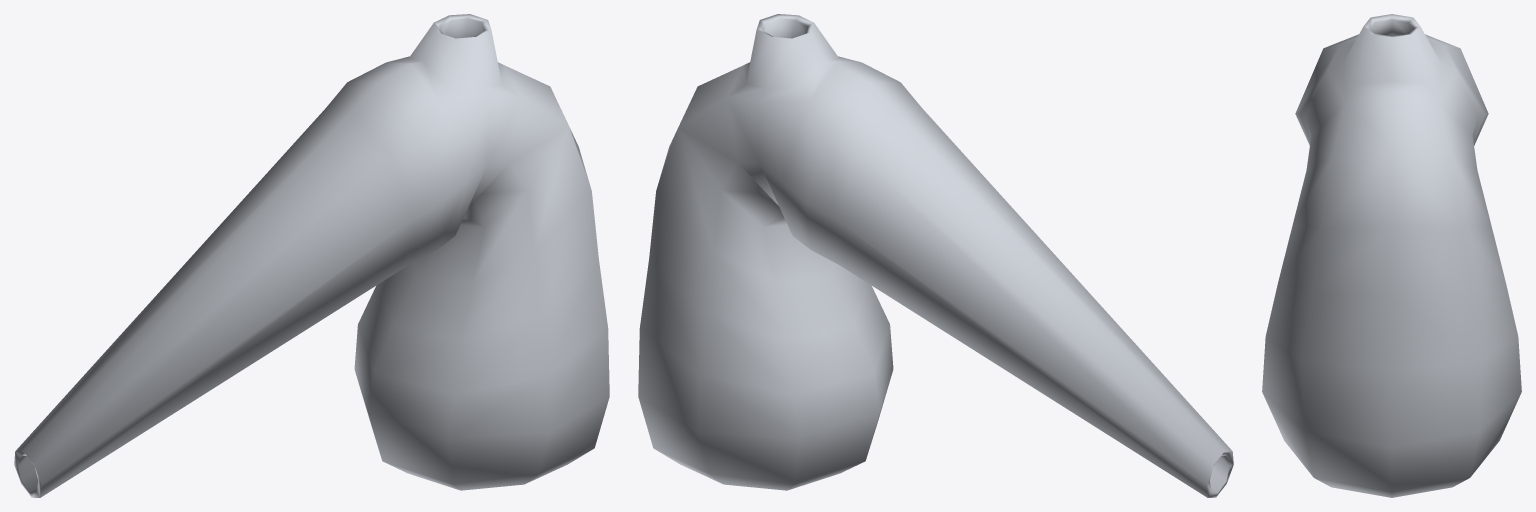
File: bottle_glassware_retort_flask_large.glb
3 renders of one model, left to right at view 1: azimuth 30°, elevation 25°; view 2: azimuth 150°, elevation 25°; view 3: azimuth 270°, elevation 25°, orthographic.
Parts seen in each view (by area): view 1: bottle_glassware_retort_flask_large; view 2: bottle_glassware_retort_flask_large; view 3: bottle_glassware_retort_flask_large.
Boxes of the visible parts, box(x1,y1,x2,y2) form: bottle_glassware_retort_flask_large: box(14, 14, 609, 497); bottle_glassware_retort_flask_large: box(638, 14, 1233, 497); bottle_glassware_retort_flask_large: box(1262, 14, 1521, 497).
Size of the model in its own units: 35.52 by 26.45 by 14.15.
1 material, 1 textured.
